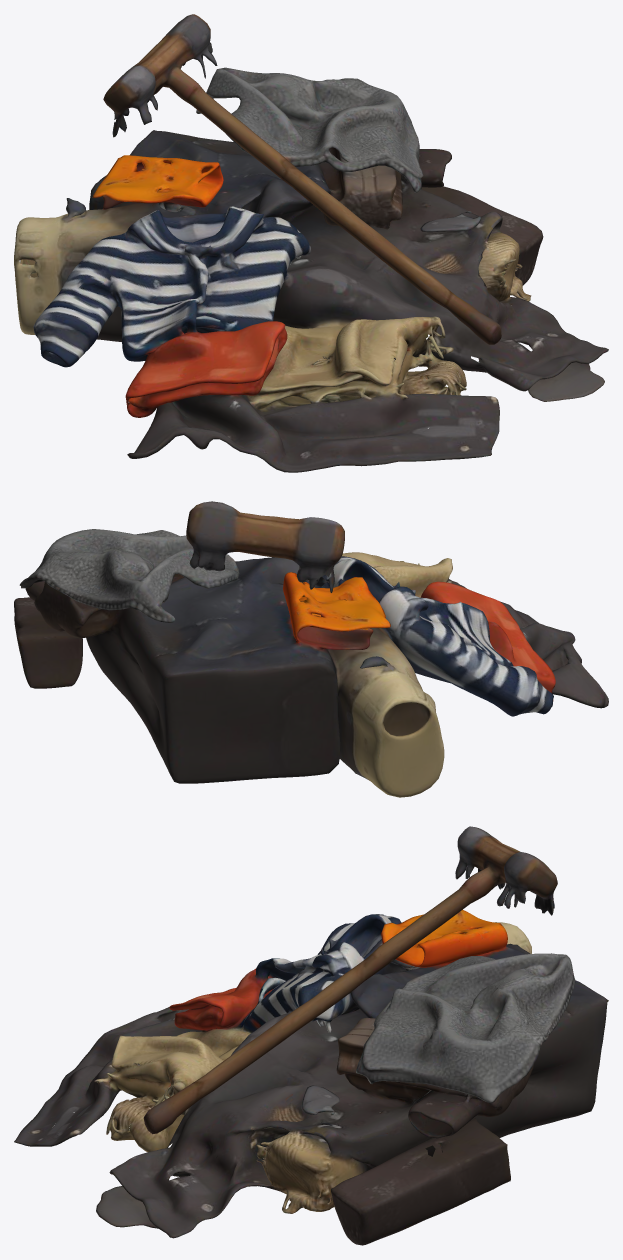
Rendered from g67_event_rags.glb.
3 renders of one model, top to bottom at view 1: azimuth 30°, elevation 25°; view 2: azimuth 150°, elevation 25°; view 3: azimuth 270°, elevation 25°, orthographic. The views are drawn at different scales.
Parts seen in each view (by area): view 1: tripo_node_659010e2; view 2: tripo_node_659010e2; view 3: tripo_node_659010e2.
Boxes of the visible parts, bbox=[...] form: tripo_node_659010e2: bbox=[14, 14, 608, 472]; tripo_node_659010e2: bbox=[14, 501, 608, 797]; tripo_node_659010e2: bbox=[14, 826, 608, 1245].
Size of the model in its own units: 96.87 by 48.49 by 96.65.
1 material, 1 textured.
